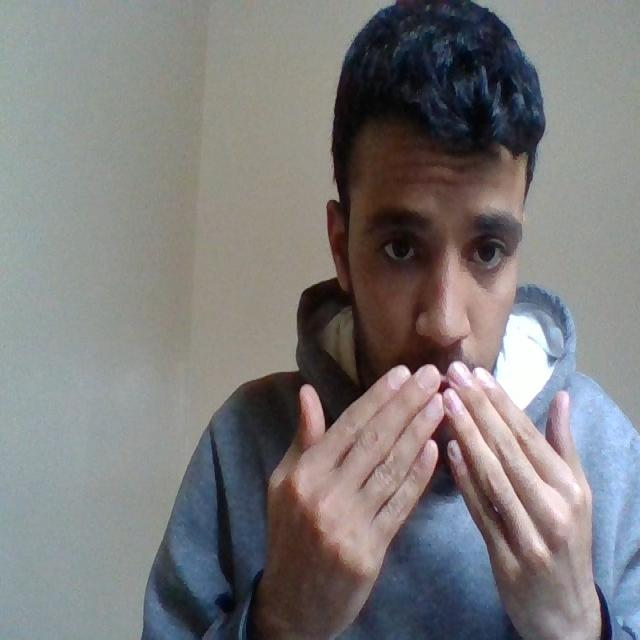Thanks: (248, 348, 622, 637)
